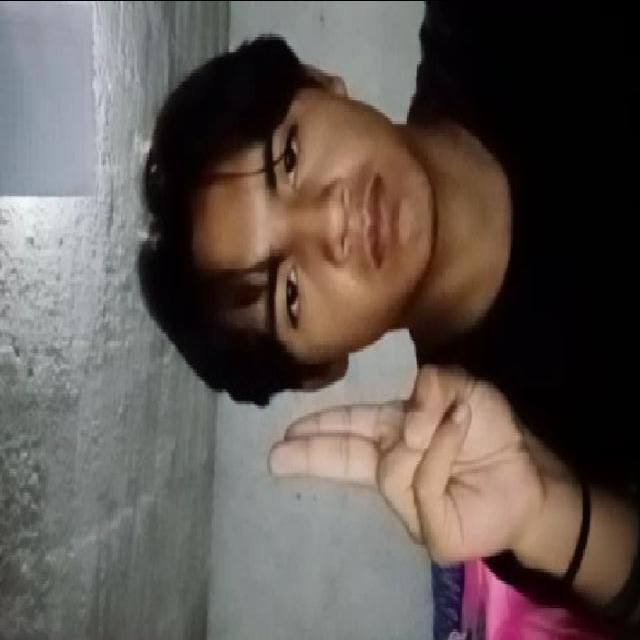U: (258, 348, 553, 596)
